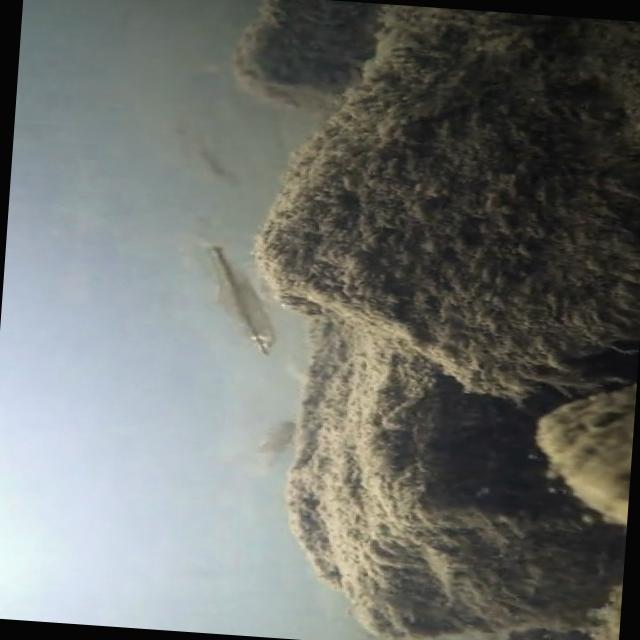Cakil Baligi: (170, 222, 294, 358)
